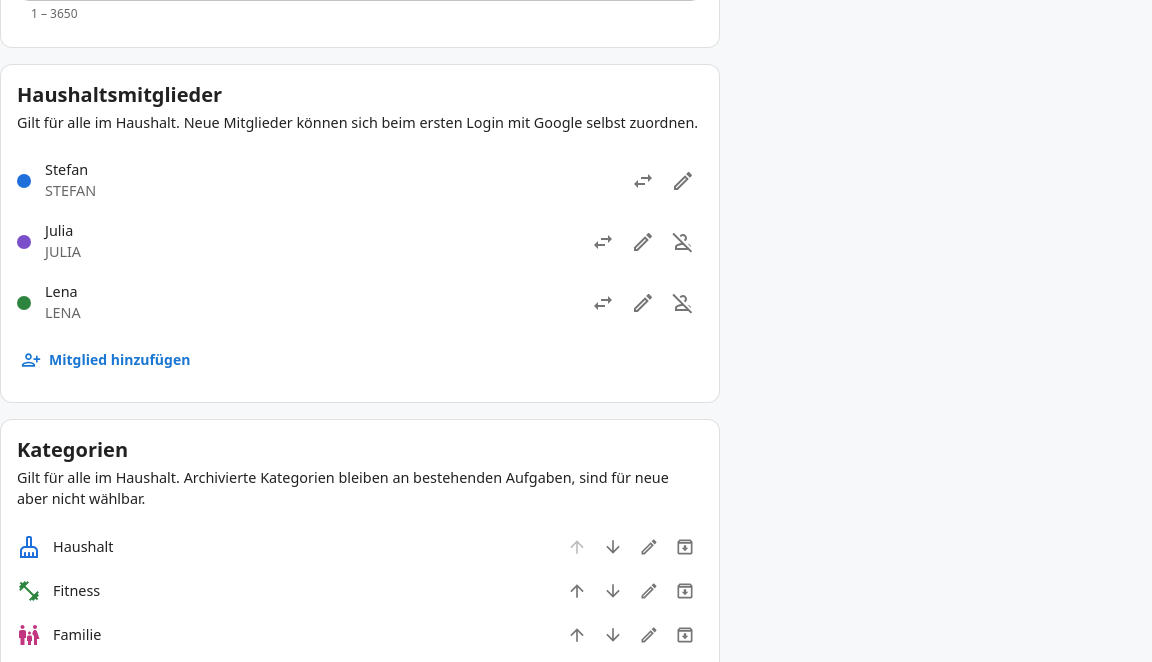
Test case: member deactivation › needs no target when nothing is assigned and shows server errors
(page scrolled)
What coordinates should you click on to do the following:
click the button named "Lena deaktivieren"
I would click on:
 (683, 303)
Its box is [663,283,703,323].
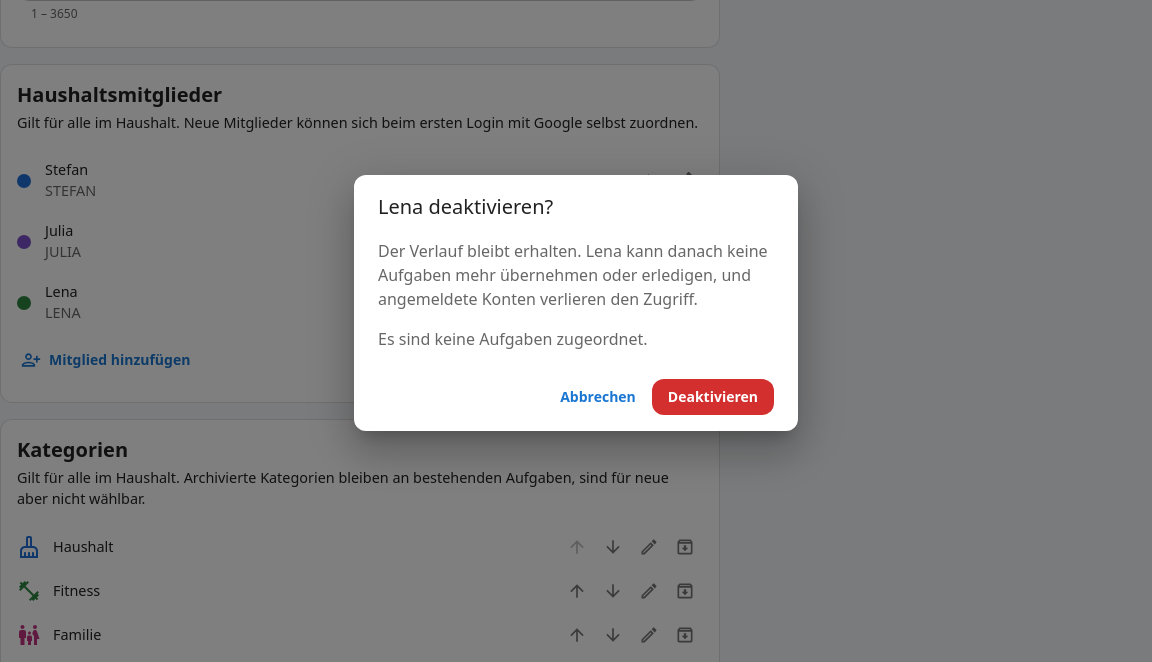
Expected: the text "Es sind keine Aufgaben zugeordnet." is shown, [378,328,648,350]
What coordinates should you click on to do the following:
click the button "Deaktivieren"
I would click on:
 (713, 397)
Its box is [652,379,774,415].
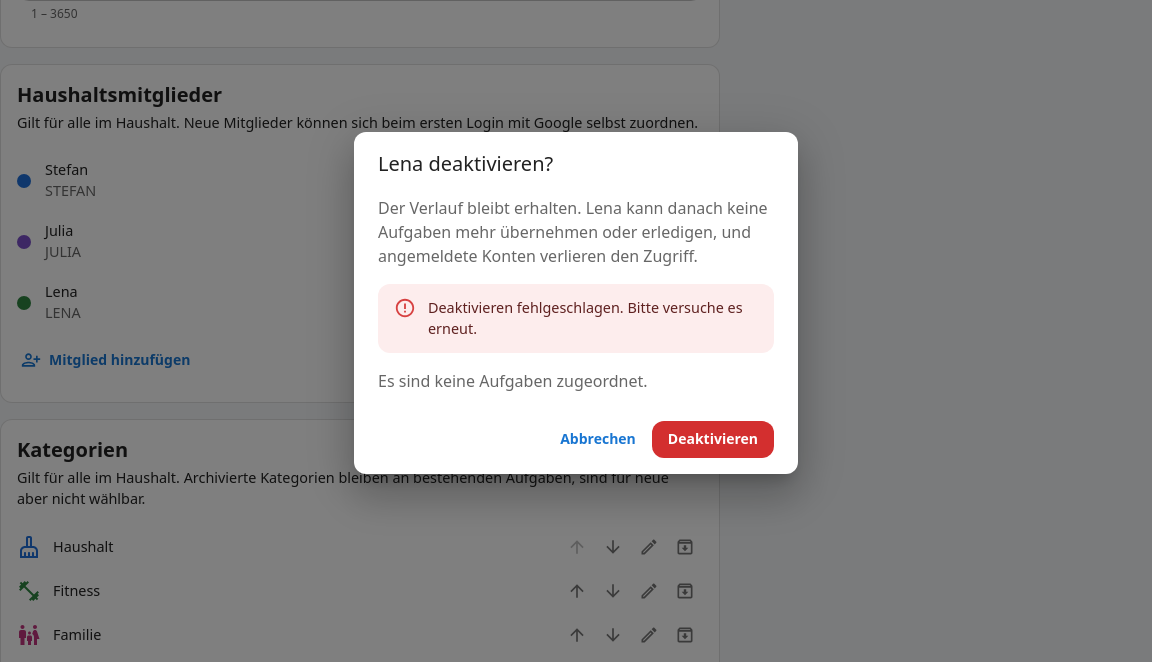
Expected: the text "Deaktivieren fehlgeschlagen. Bitte versuche es erneut." is shown, [428,290,758,347]
